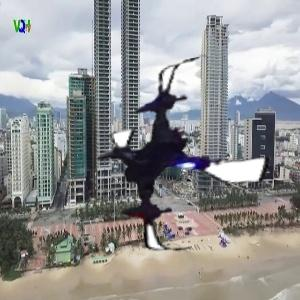drone: (85, 55, 287, 257)
